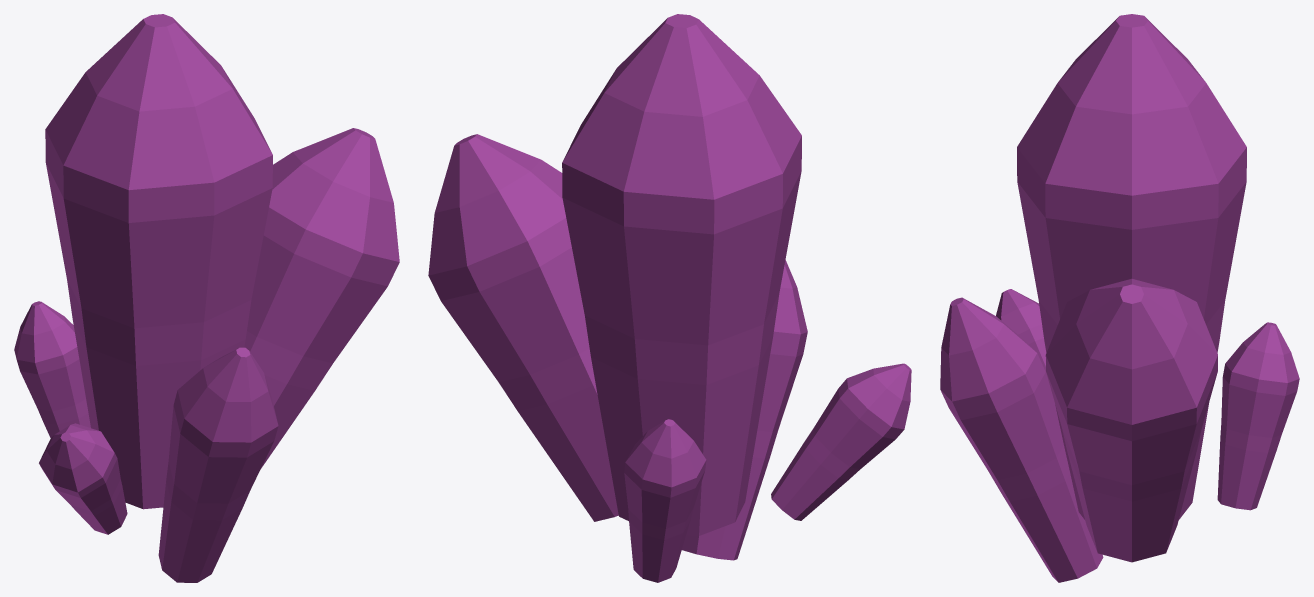
Rendered from krystal_01.fbx.
3 views of the same model, side by side, from view 1: azimuth 30°, elevation 25°; view 2: azimuth 150°, elevation 25°; view 3: azimuth 270°, elevation 25° (orthographic). The views are drawn at different scales.
Parts seen in each view (by area): view 1: krystal; view 2: krystal; view 3: krystal.
Part boxes in pixels (bbox=[...]): krystal: bbox=[14, 14, 399, 582]; krystal: bbox=[428, 14, 911, 582]; krystal: bbox=[940, 14, 1299, 582].
Bounding box in the file's own units: 2.38 × 3.16 × 1.85.
